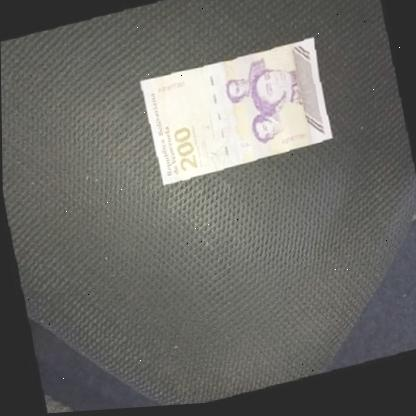two_hundred-front-vef: (139, 40, 333, 189)
